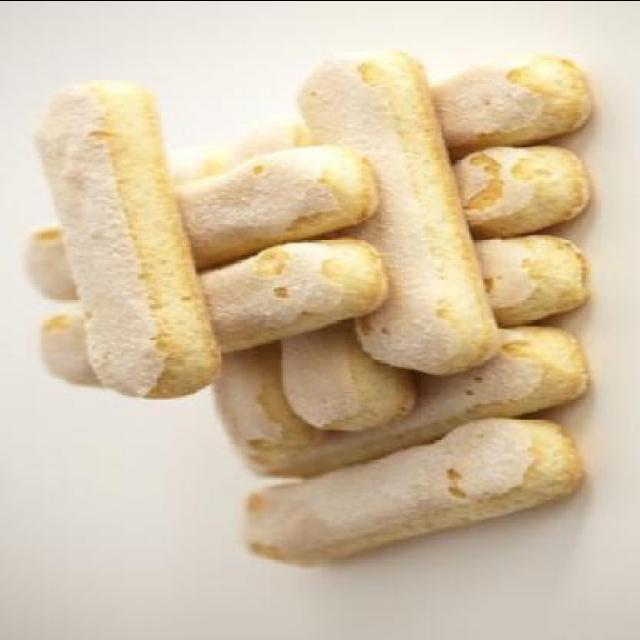Merendine packaged: (19, 49, 596, 574)
